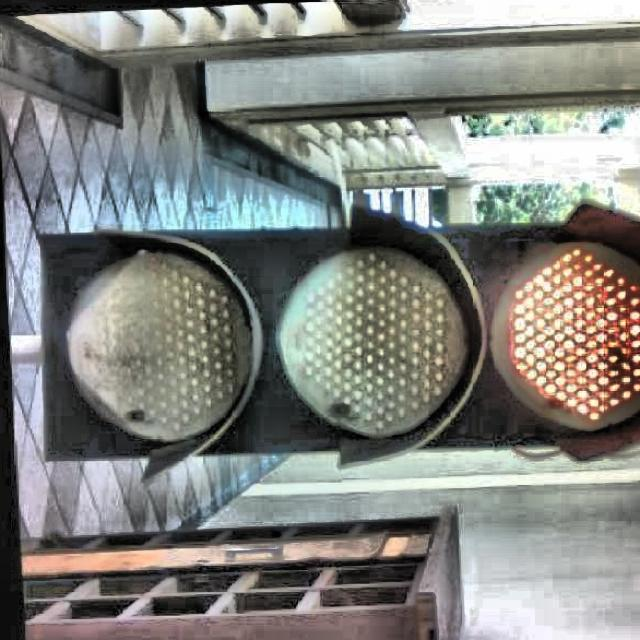red: (42, 226, 640, 458)
